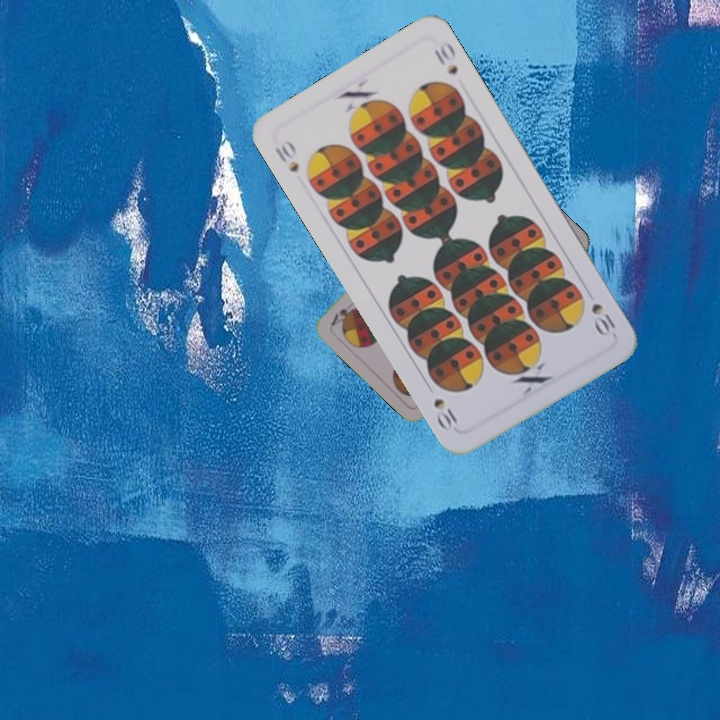S10: (270, 136, 302, 176), (587, 299, 618, 339)
